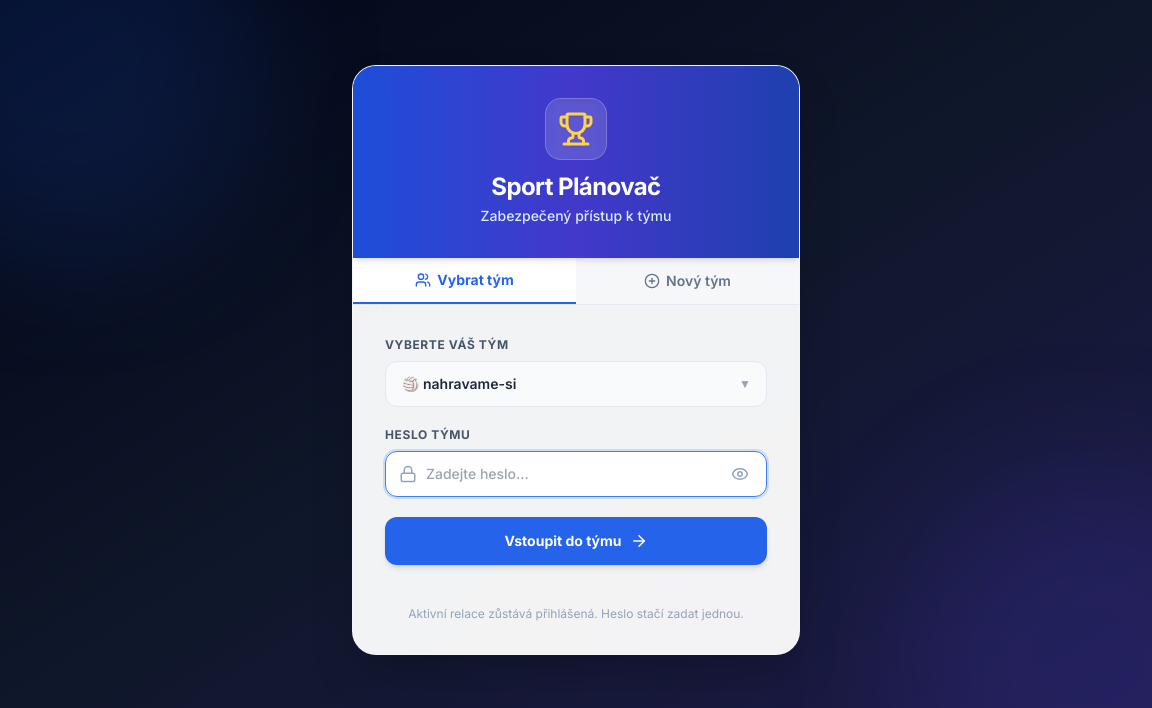
it: TeamLoginScreen › validates password match when creating new team
Click the button "Nový tým" at (688, 281), box [576,258,799,304]
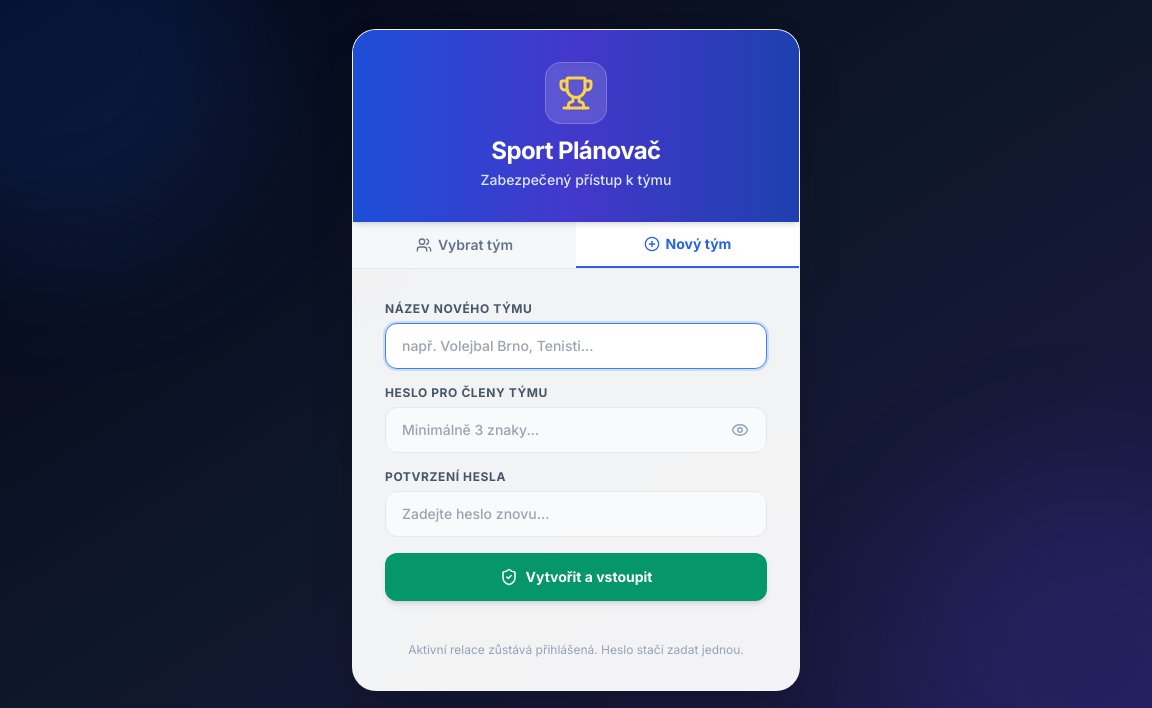
Type "Tenisti" into the field with placeholder "např. Volejbal Brno, Tenisti..." at (576, 346), box [385,323,767,369]
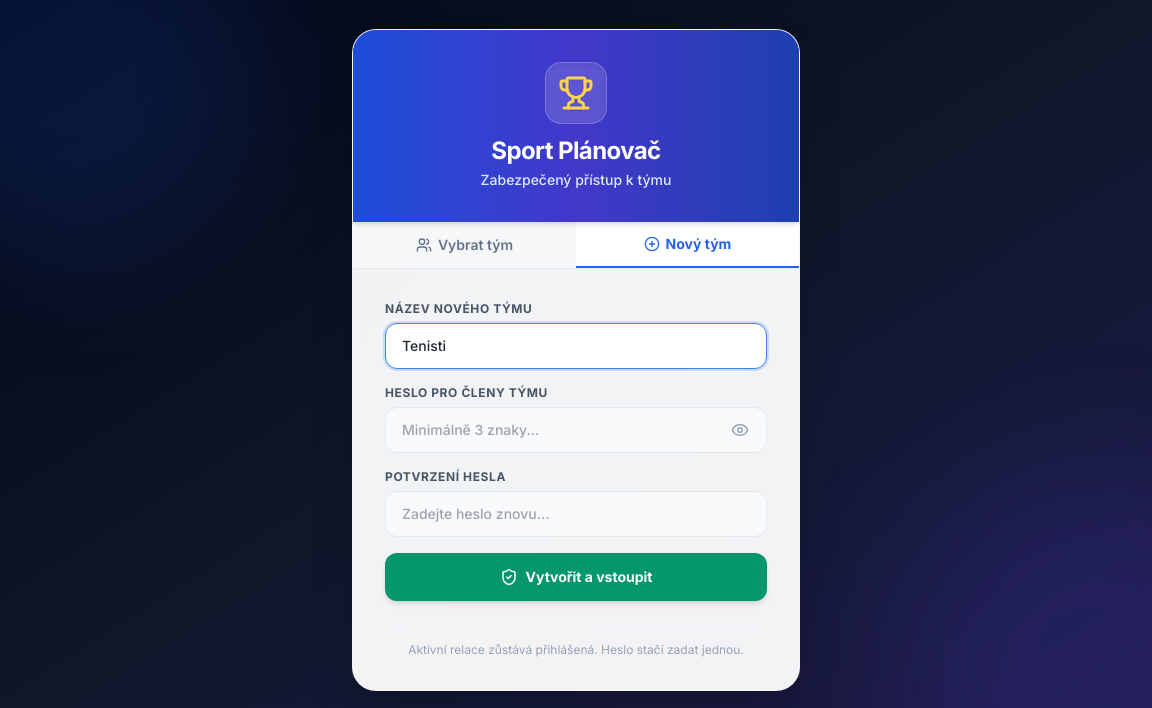
Type "pass1" into the password field with placeholder "Minimálně 3 znaky..." at (576, 430), box [385,407,767,453]
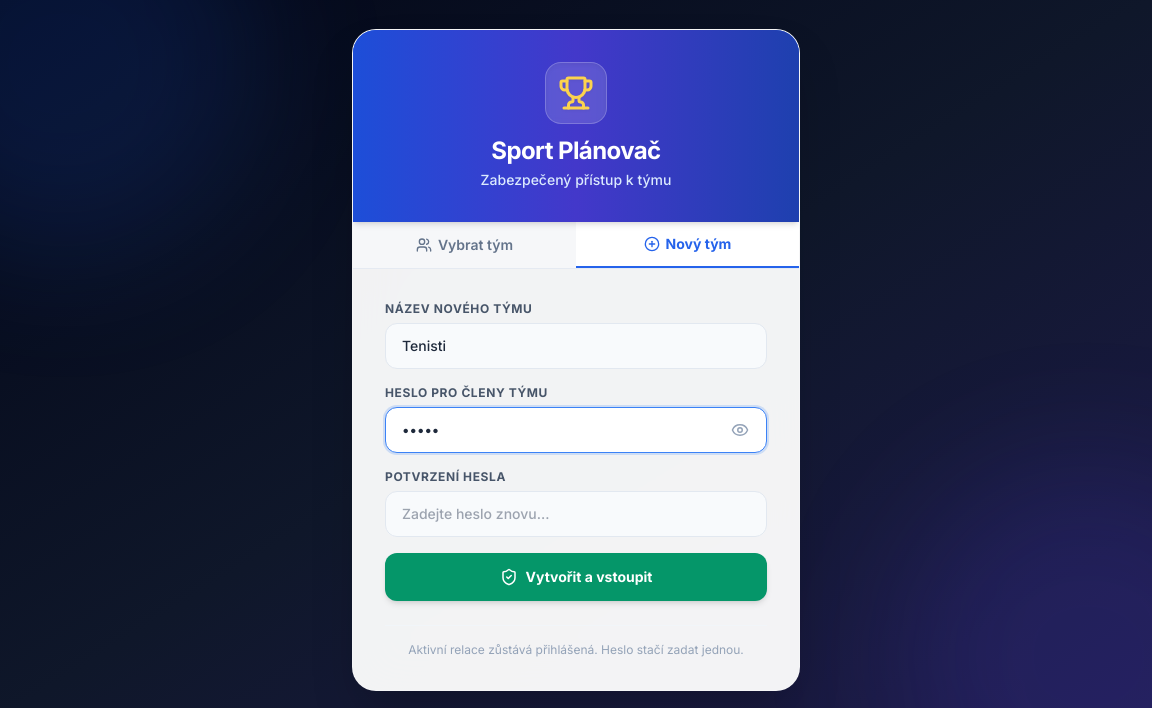
Type "pass2" into the password field with placeholder "Zadejte heslo znovu..." at (576, 514), box [385,491,767,537]
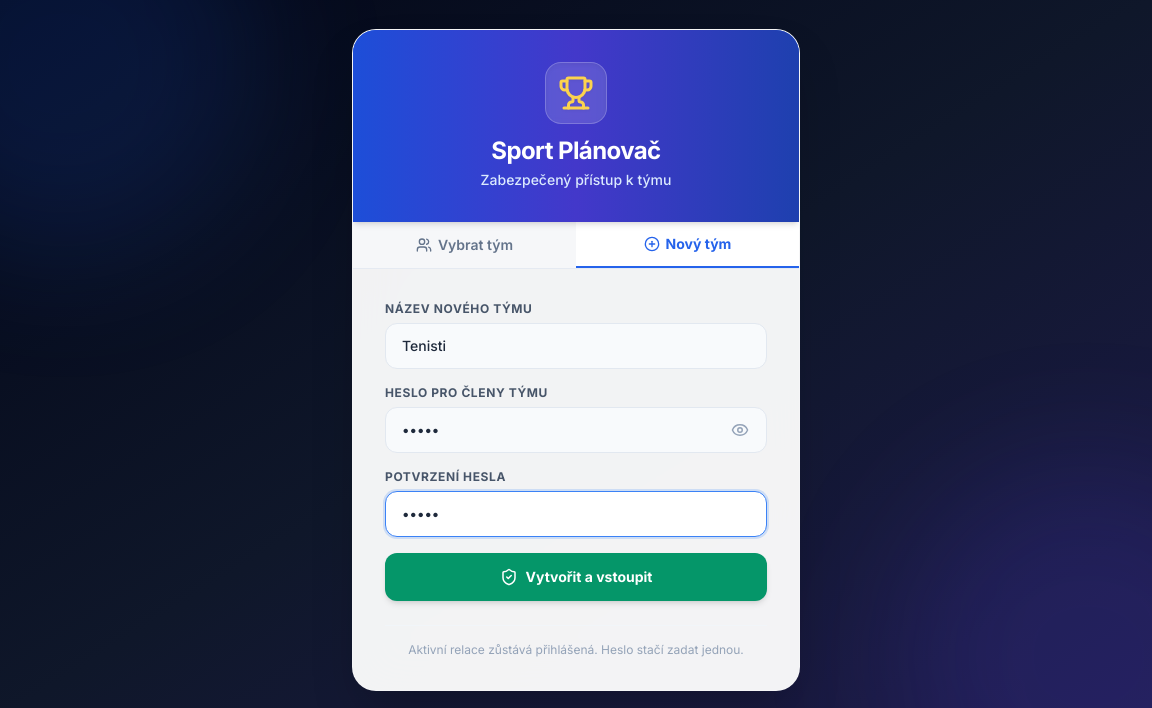
Click the button "Vytvořit a vstoupit" at (576, 577), box [385,553,767,601]
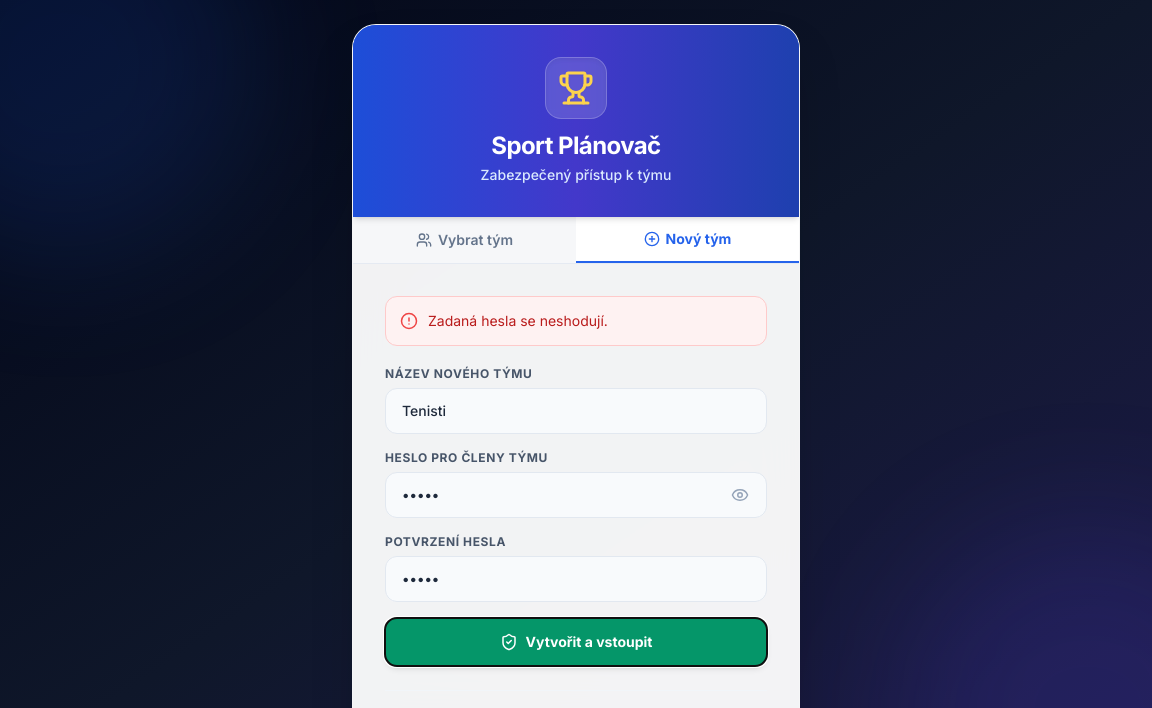
Result: the text "Zadaná hesla se neshodují." is shown at [428,311,608,331]
